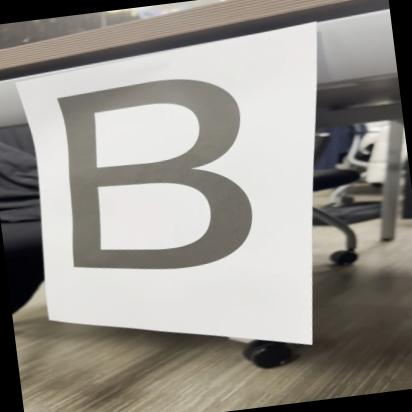seat: (44, 62, 272, 295)
